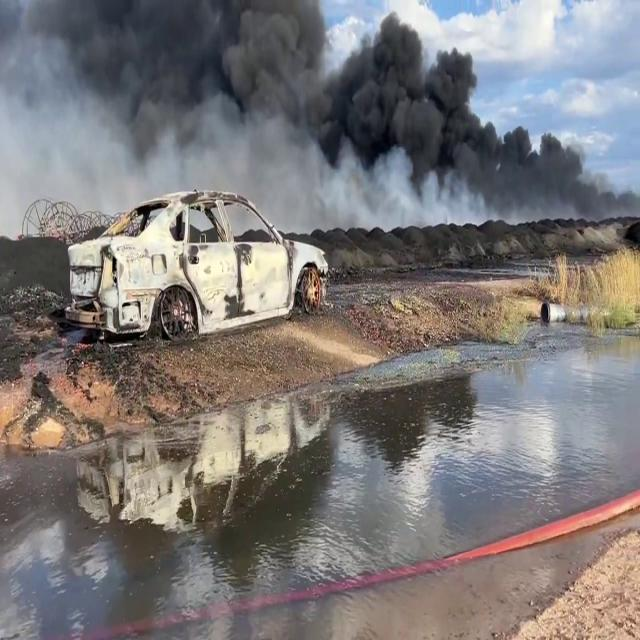Smoke: (6, 0, 632, 243)
